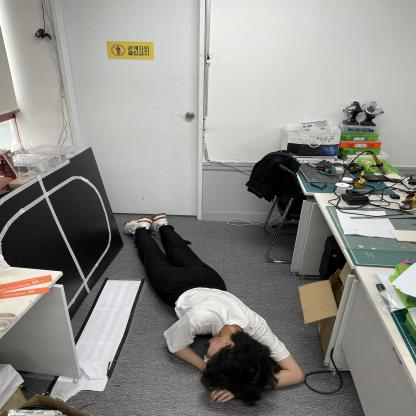fall: (125, 212, 305, 407)
